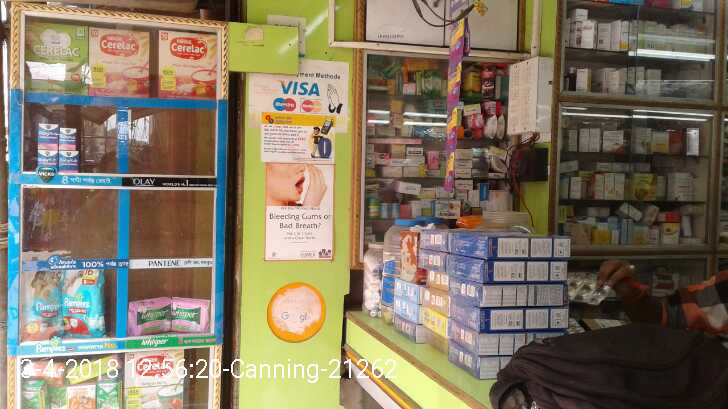vicks: (35, 123, 83, 174)
